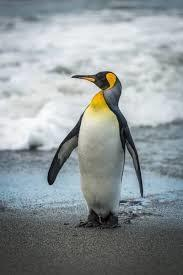king: (41, 46, 160, 246)
